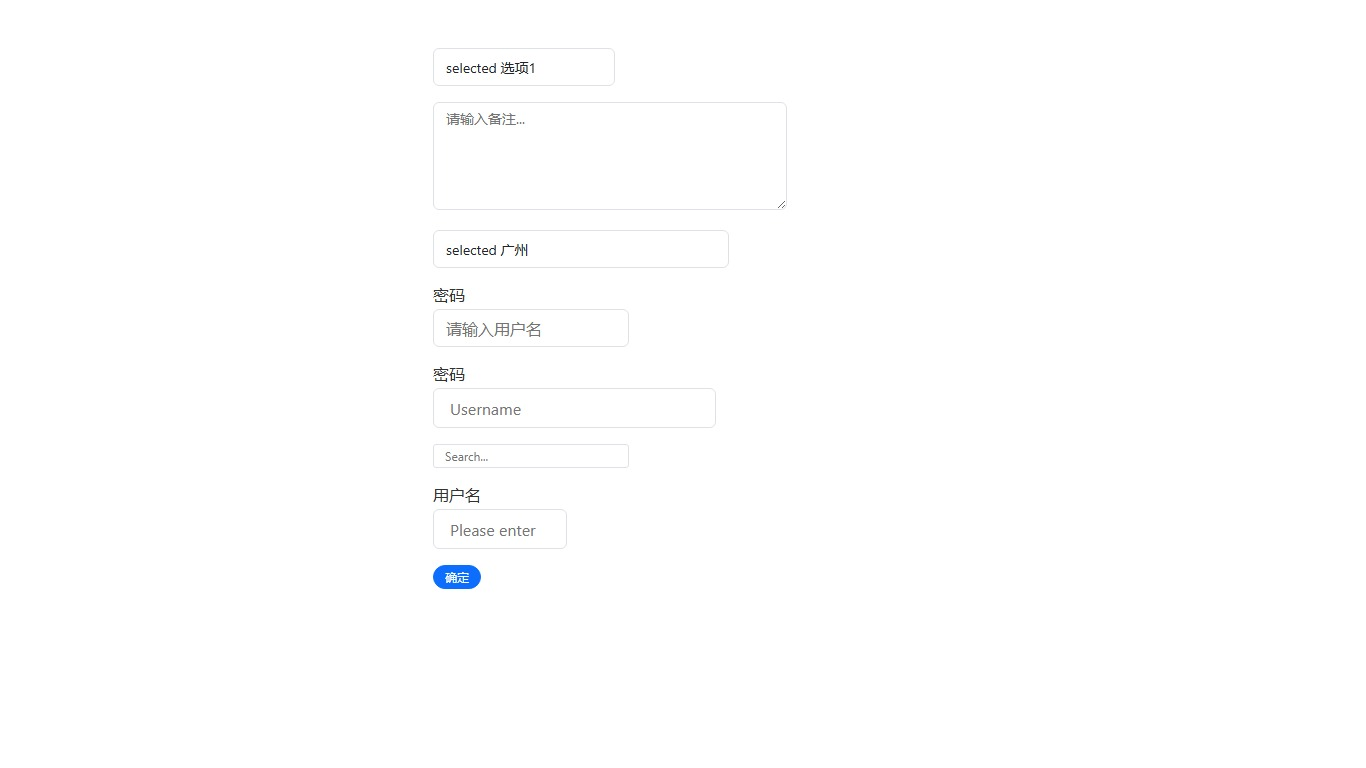button: (433, 565, 481, 589)
input: (433, 388, 716, 428), (433, 309, 629, 347), (433, 509, 567, 549), (433, 444, 629, 468)
select: (433, 230, 729, 268), (433, 48, 615, 86)
textarea: (433, 102, 787, 210)
